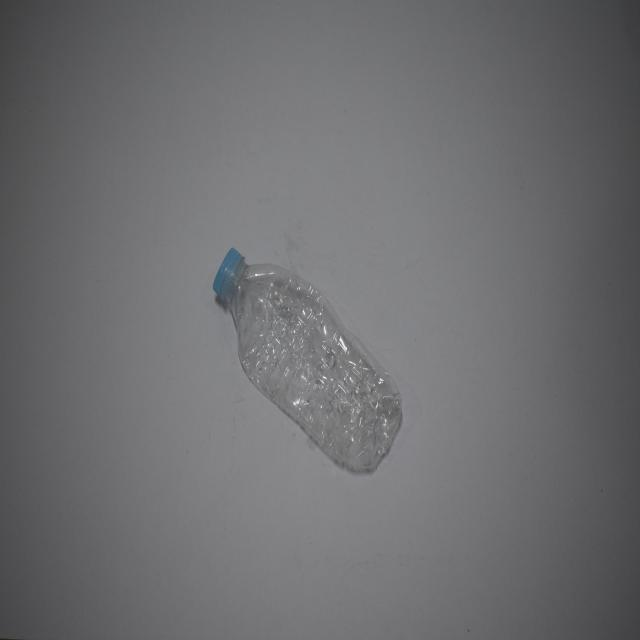empty: (231, 265, 401, 471)
